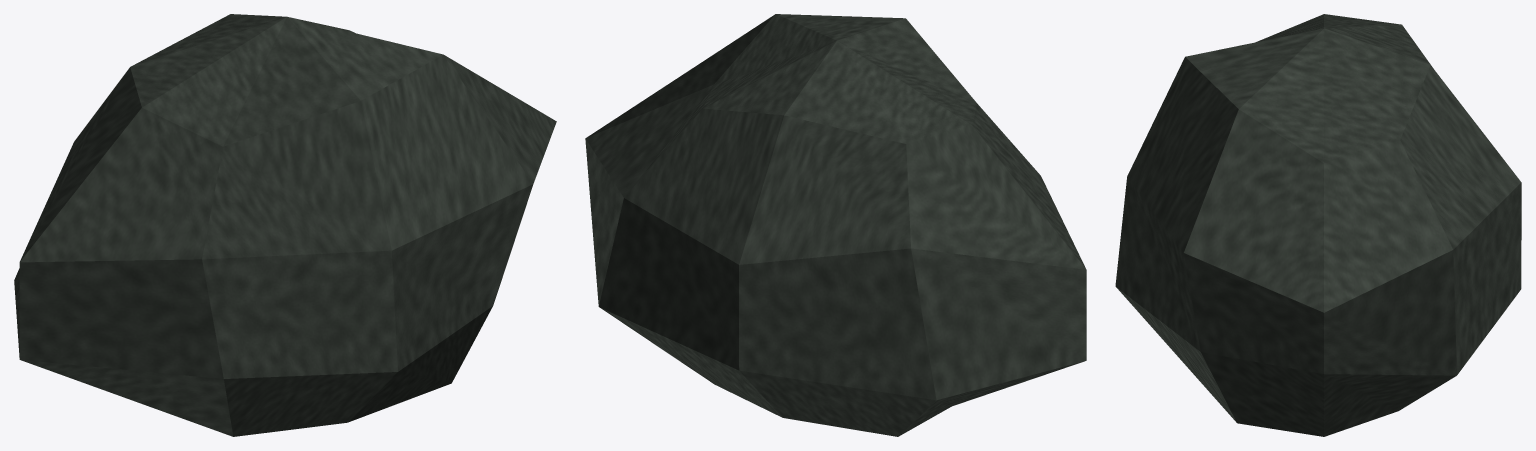
File: Rock_03.glb
3 renders of one model, left to right at view 1: azimuth 30°, elevation 25°; view 2: azimuth 150°, elevation 25°; view 3: azimuth 270°, elevation 25°, orthographic. The views are drawn at different scales.
Visible parts, largest first — view 1: Rock_03; view 2: Rock_03; view 3: Rock_03.
Boxes of the visible parts, x1=… form: Rock_03: x1=14, y1=14, x2=556, y2=436; Rock_03: x1=585, y1=14, x2=1086, y2=436; Rock_03: x1=1115, y1=14, x2=1521, y2=436.
Size of the model in its own units: 1.77 by 1.14 by 1.23.
1 material, 1 textured.
